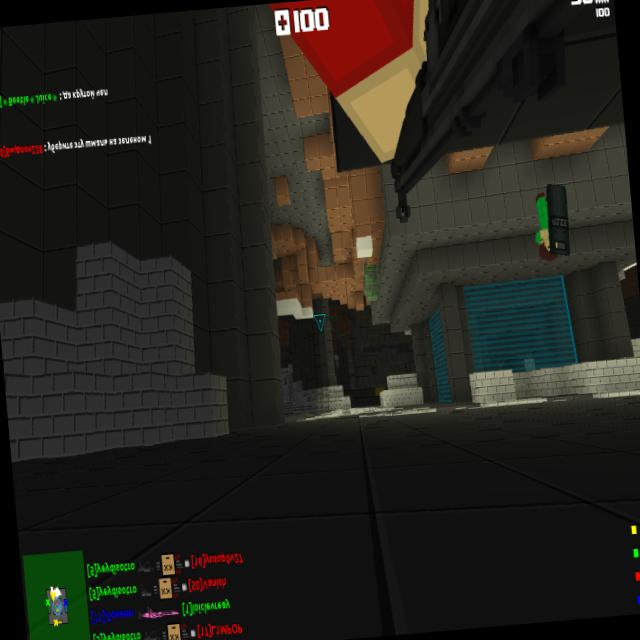enemy: (531, 192, 559, 264)
